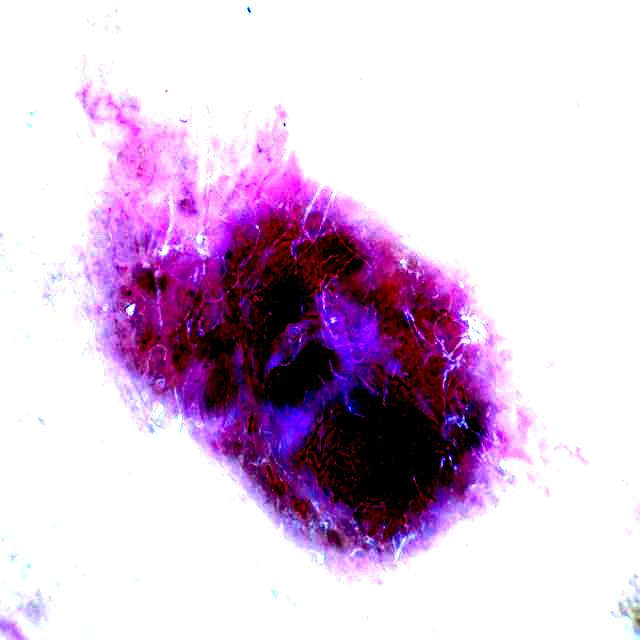BCC: (111, 108, 494, 553)
